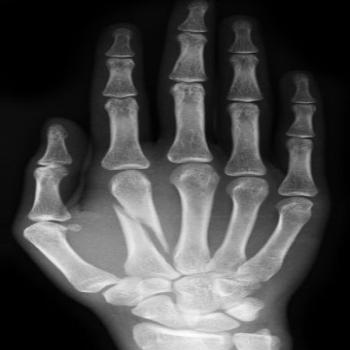Fracture: (102, 194, 170, 258)
